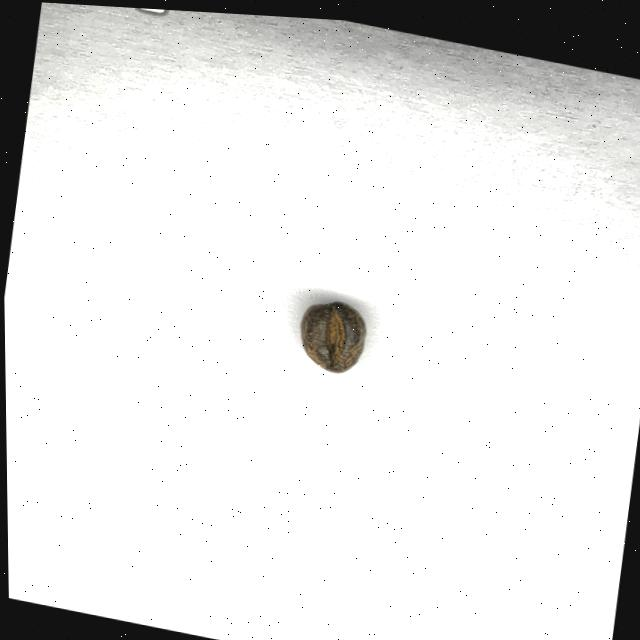Black: (293, 290, 371, 376)
